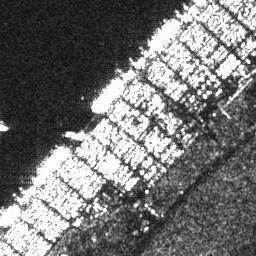ship: (91, 76, 120, 114), (32, 146, 67, 172), (147, 18, 177, 46), (61, 129, 91, 143)
